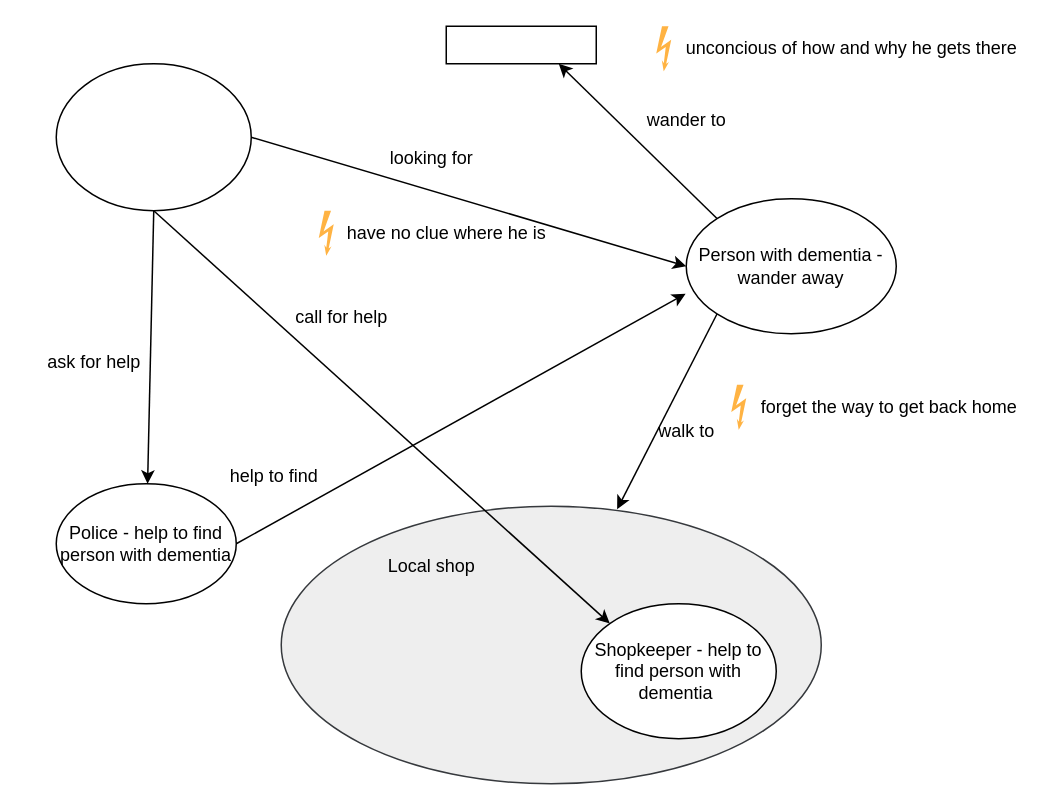
Some shapes in this 1056 by 810 pixel diagram are drawn without their labels. Here are the shapes that lost their labels. From the top down, the centre of each, then its label:
At [520,44]: "Local park".
At [153,136]: "Spouse of a person with dementia - looking for her husband".
